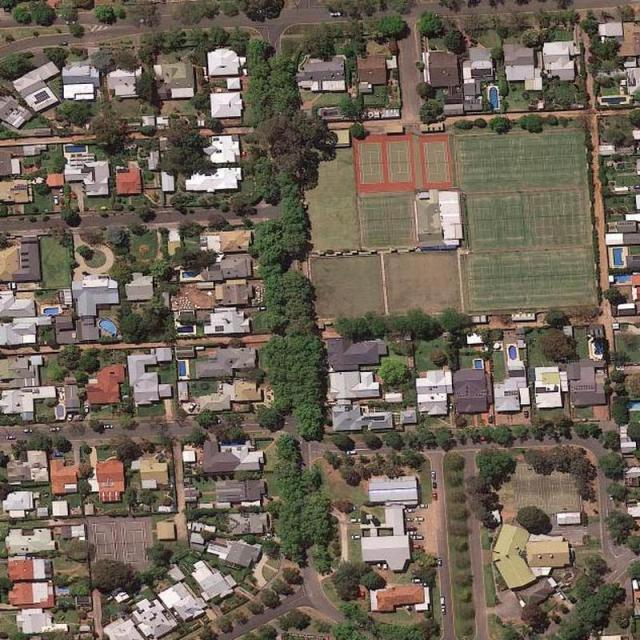vehicle: (410, 534, 425, 540), (4, 434, 17, 440), (187, 402, 194, 413), (438, 594, 445, 605), (402, 507, 414, 513), (438, 605, 445, 614), (102, 424, 114, 429), (350, 534, 360, 540), (430, 491, 437, 499), (51, 452, 62, 457), (345, 450, 356, 455), (414, 516, 425, 521), (402, 517, 413, 522), (437, 556, 442, 566), (53, 194, 58, 204), (66, 414, 73, 421), (430, 480, 436, 488), (410, 578, 422, 582), (417, 503, 428, 507), (329, 11, 340, 15), (22, 429, 32, 433), (50, 426, 60, 430), (350, 518, 360, 522), (84, 405, 88, 414), (257, 306, 266, 310), (58, 186, 62, 195), (430, 471, 434, 479), (406, 531, 414, 535)
